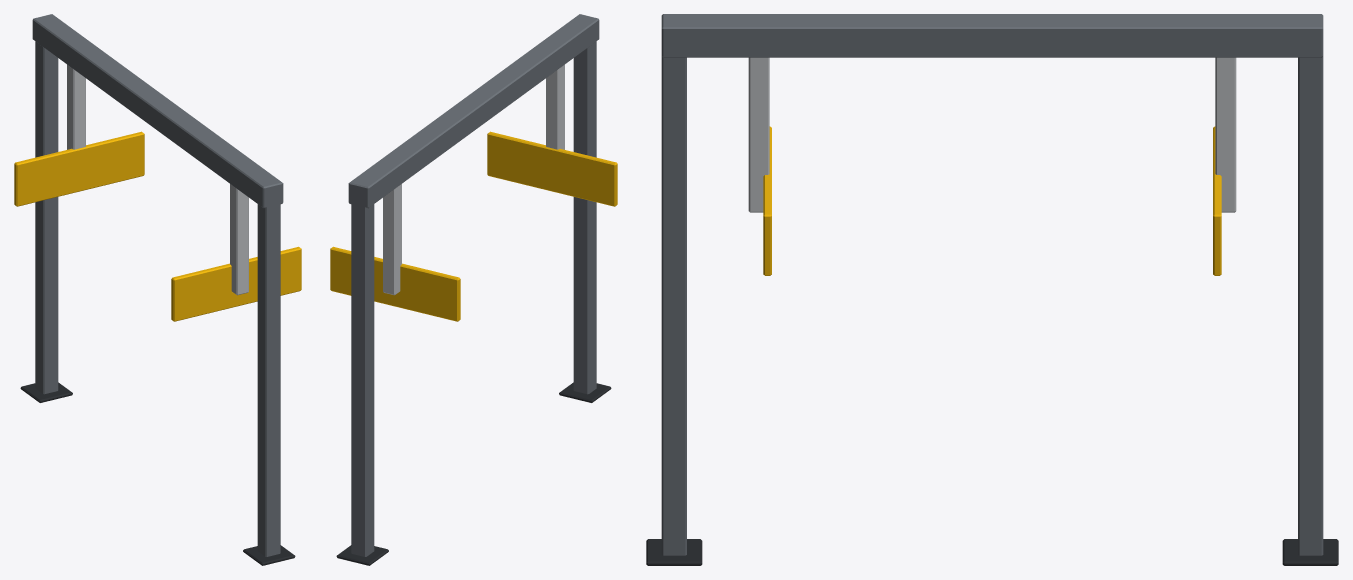
The model's file is positioning_bars.glb.
The picture shows the model from 3 angles, left to right: view 1: azimuth 30°, elevation 25°; view 2: azimuth 150°, elevation 25°; view 3: azimuth 270°, elevation 25°; orthographic projection. The views are drawn at different scales.
Visible parts, largest first — view 1: Bars_Static, Clamp_Left, Clamp_Right; view 2: Bars_Static, Clamp_Right, Clamp_Left; view 3: Bars_Static, Clamp_Left, Clamp_Right.
Boxes of the visible parts, box(x1,y1,x2,y2) form: Bars_Static: box(20, 14, 295, 565); Clamp_Left: box(14, 64, 144, 206); Clamp_Right: box(171, 184, 301, 321); Bars_Static: box(336, 14, 611, 565); Clamp_Right: box(487, 64, 617, 206); Clamp_Left: box(330, 184, 460, 321); Bars_Static: box(646, 14, 1338, 565); Clamp_Left: box(1213, 57, 1236, 275); Clamp_Right: box(748, 57, 771, 275).
Bounding box in the file's own units: 0.5 × 1.39 × 1.63.
